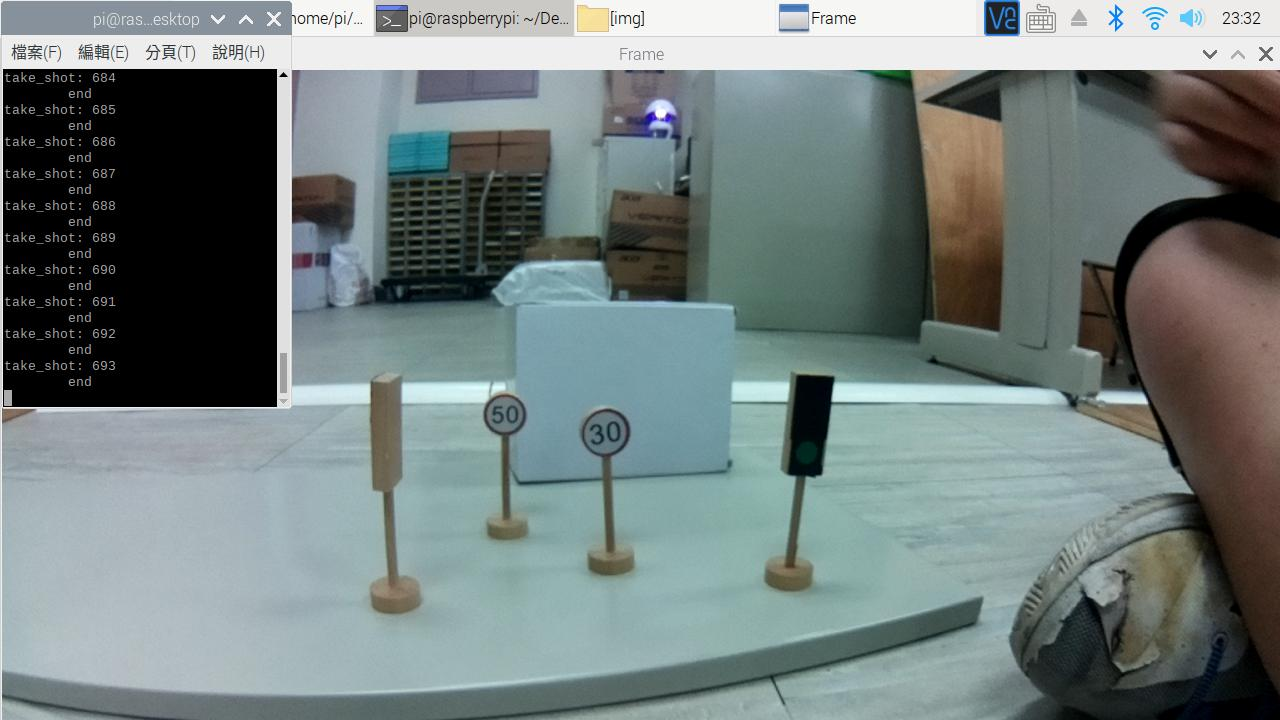Green: (768, 356, 827, 482)
Speed30: (578, 405, 633, 464)
Speed50: (481, 395, 530, 444)
